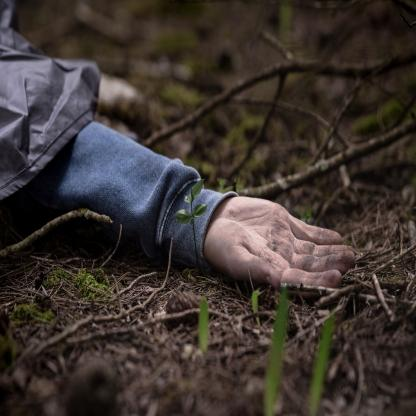hand: (65, 98, 365, 307)
